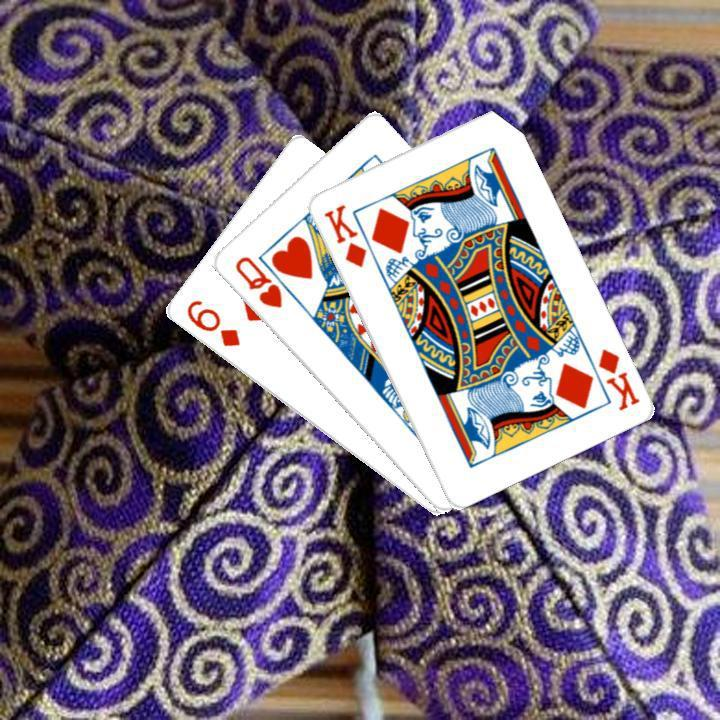6: (181, 295, 242, 349)
K: (319, 199, 368, 270), (593, 344, 641, 413)
Q: (230, 252, 284, 311)
